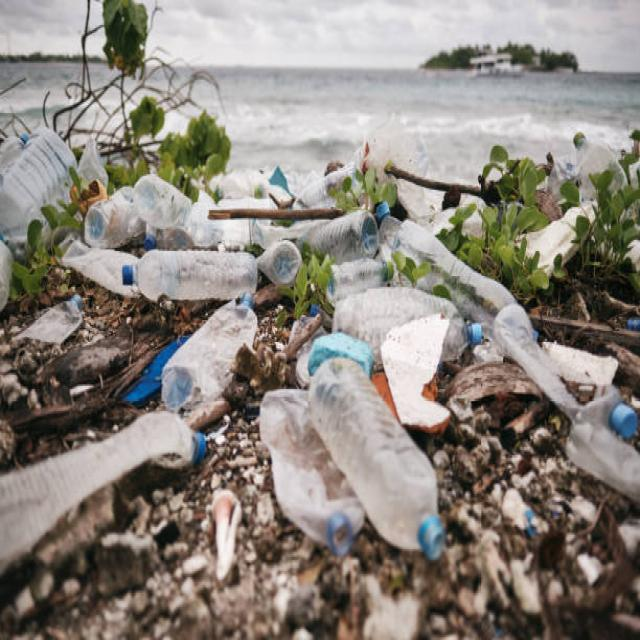plastic: (9, 140, 613, 538)
